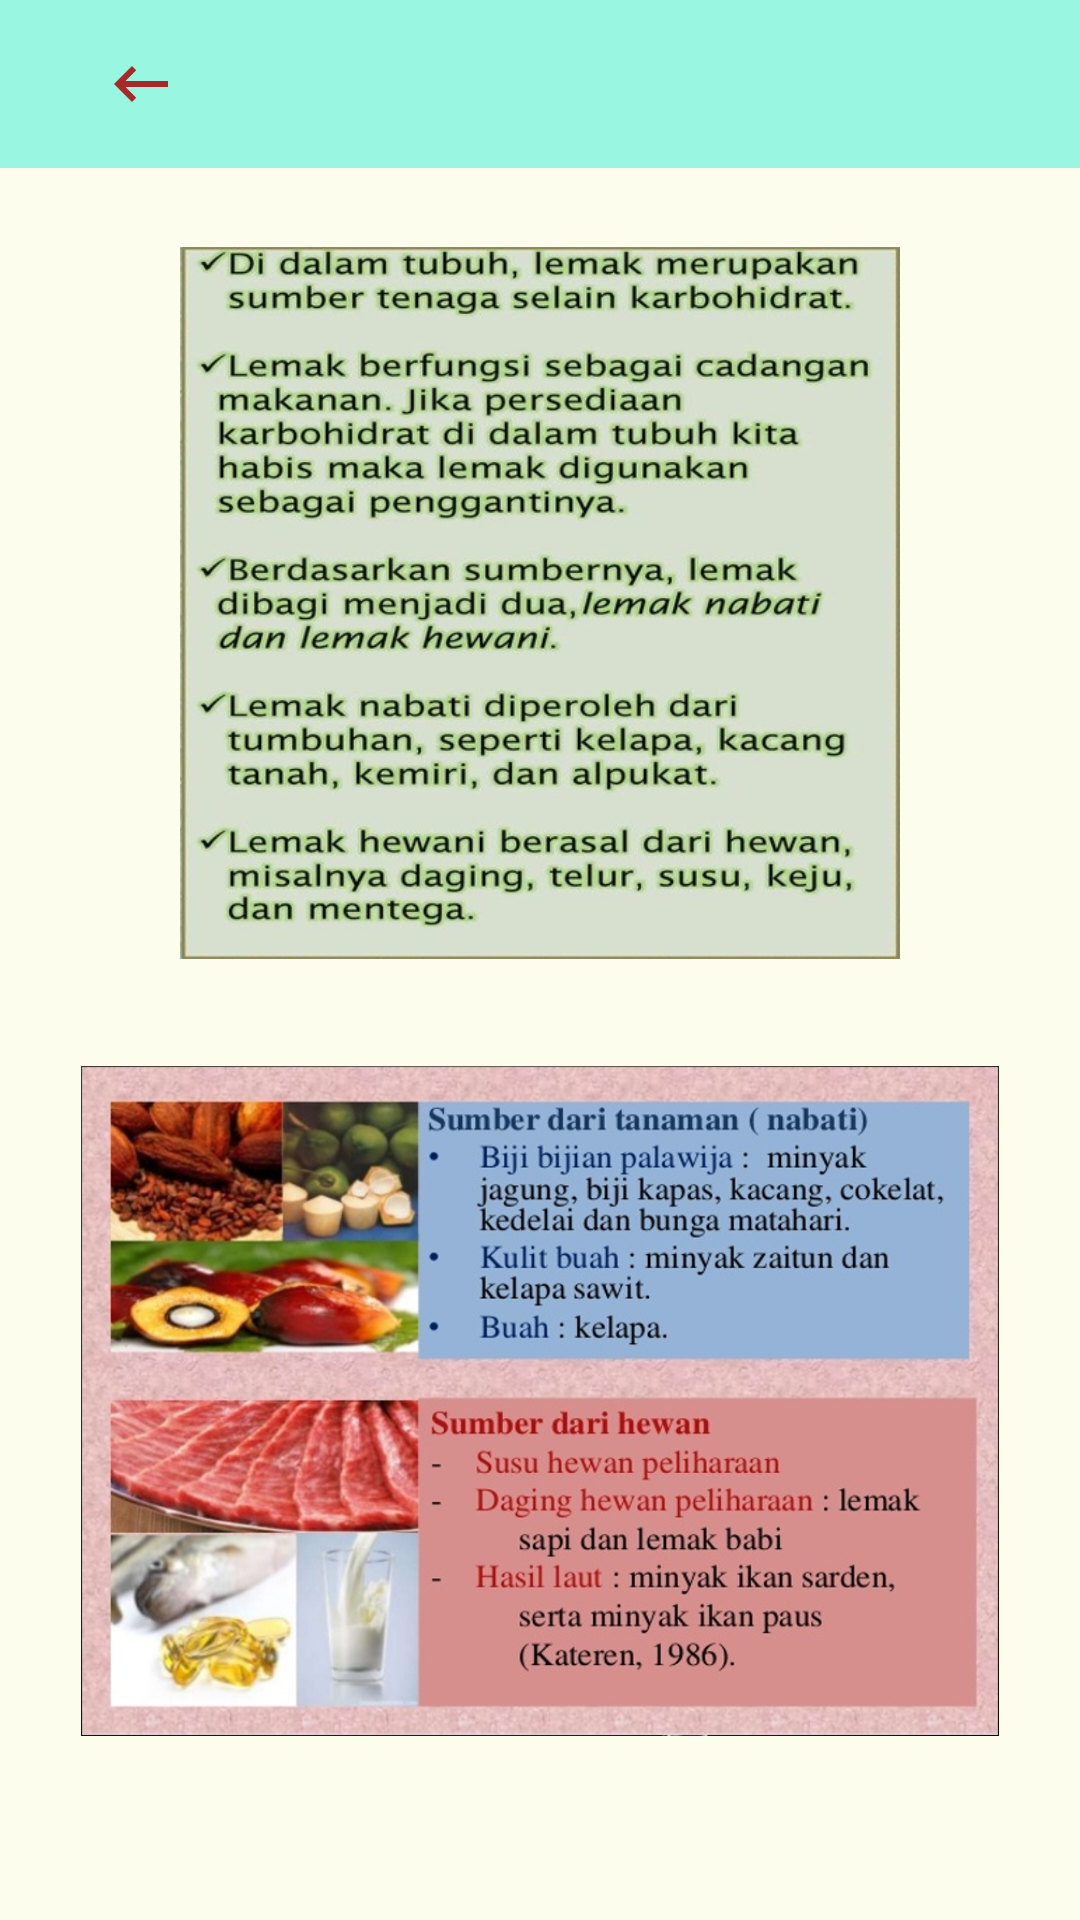

Icons on this 1080px x 1920px Android screen, each with its box as (x1, y1, x2, y2):
arrow back: (114, 66, 168, 102)
